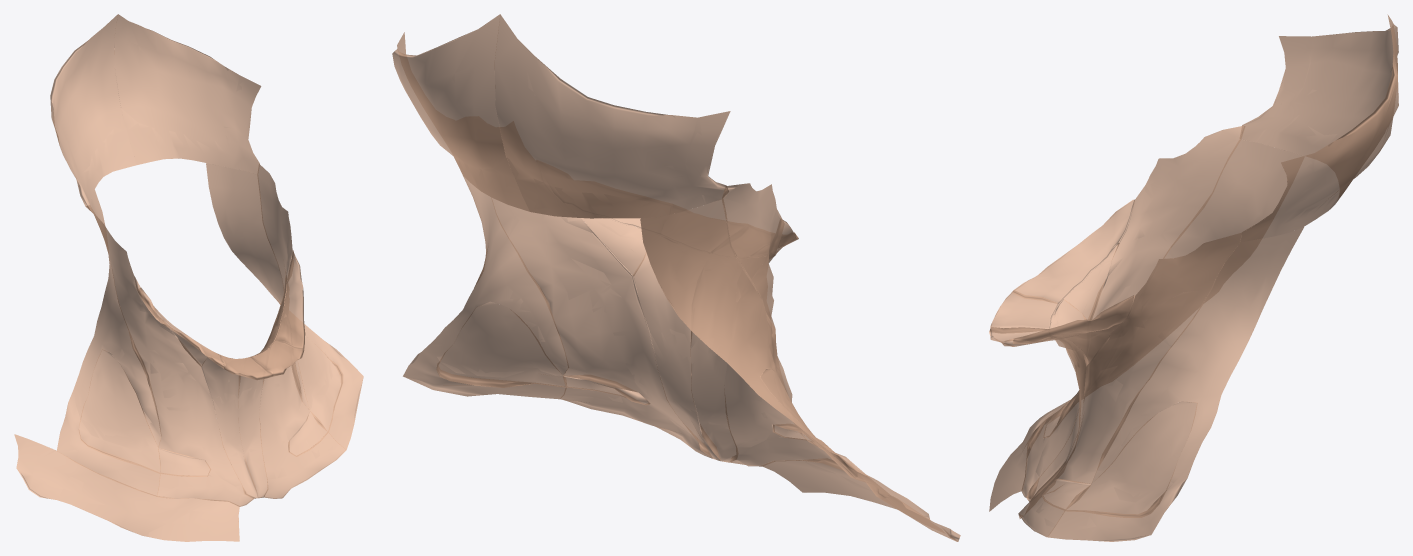
File: regions.neck.glb
3 views of the same model, side by side, from view 1: azimuth 30°, elevation 25°; view 2: azimuth 150°, elevation 25°; view 3: azimuth 270°, elevation 25° (orthographic). The views are drawn at different scales.
Parts seen in each view (by area): view 1: left_occipital_region, right_sternocleidomastoid_region, right_infraclavicular_fossa, right_occipital_region, left_sternocleidomastoid_region, left_lateral_region_of_neck, right_lateral_region_of_neck, right_greater_supraclavicular_fossa, right_muscular_triangle, left_greater_supraclavicular_fossa, left_muscular_triangle, left_submandibular_triangle (+5 smaller); view 2: right_occipital_region, left_sternocleidomastoid_region, right_lateral_region_of_neck, left_occipital_region, right_sternocleidomastoid_region, left_lateral_region_of_neck, left_greater_supraclavicular_fossa, left_muscular_triangle, right_infraclavicular_fossa, right_muscular_triangle, left_carotid_triangle, right_greater_supraclavicular_fossa (+1 smaller); view 3: left_lateral_region_of_neck, left_sternocleidomastoid_region, right_occipital_region, right_sternocleidomastoid_region, left_occipital_region, left_greater_supraclavicular_fossa, right_lateral_region_of_neck, right_submandibular_triangle, right_submental_triangle, left_submandibular_triangle, right_infraclavicular_fossa, right_muscular_triangle (+5 smaller).
Part boxes in pixels (x1,y1,x2,y2): left_occipital_region: [114, 14, 261, 174]; right_sternocleidomastoid_region: [85, 205, 254, 506]; right_infraclavicular_fossa: [14, 434, 239, 541]; right_occipital_region: [50, 14, 136, 213]; left_sternocleidomastoid_region: [257, 164, 346, 498]; left_lateral_region_of_neck: [206, 163, 363, 449]; right_lateral_region_of_neck: [57, 190, 161, 496]; right_greater_supraclavicular_fossa: [79, 349, 160, 472]; right_muscular_triangle: [201, 357, 257, 498]; left_greater_supraclavicular_fossa: [297, 334, 343, 431]; left_muscular_triangle: [238, 336, 275, 498]; left_submandibular_triangle: [274, 250, 305, 349]; right_occipital_region: [494, 14, 730, 218]; left_sternocleidomastoid_region: [491, 197, 712, 458]; right_lateral_region_of_neck: [640, 198, 891, 499]; left_occipital_region: [392, 14, 529, 211]; right_sternocleidomastoid_region: [722, 183, 843, 470]; left_lateral_region_of_neck: [403, 170, 569, 399]; left_greater_supraclavicular_fossa: [436, 301, 566, 387]; left_muscular_triangle: [632, 252, 720, 461]; right_infraclavicular_fossa: [761, 458, 960, 541]; right_muscular_triangle: [690, 331, 737, 462]; left_carotid_triangle: [581, 218, 646, 276]; right_greater_supraclavicular_fossa: [760, 369, 858, 479]; left_lateral_region_of_neck: [1047, 227, 1303, 541]; left_sternocleidomastoid_region: [1018, 232, 1242, 537]; right_occipital_region: [1240, 15, 1398, 155]; right_sternocleidomastoid_region: [1021, 126, 1245, 498]; left_occipital_region: [1239, 16, 1398, 242]; left_greater_supraclavicular_fossa: [1065, 401, 1196, 517]; right_lateral_region_of_neck: [1048, 139, 1303, 417]; right_submandibular_triangle: [1013, 199, 1134, 303]; right_submental_triangle: [989, 290, 1058, 333]; left_submandibular_triangle: [1013, 295, 1134, 344]; right_infraclavicular_fossa: [989, 400, 1069, 511]; right_muscular_triangle: [1026, 299, 1086, 501].
Bounding box in the file's own units: 0.2411 × 0.2707 × 0.1936.
